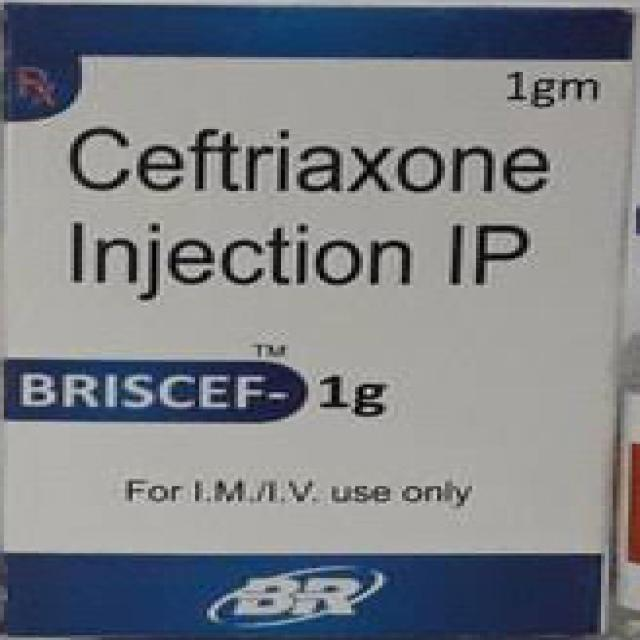drug-name: (14, 365, 292, 416)
